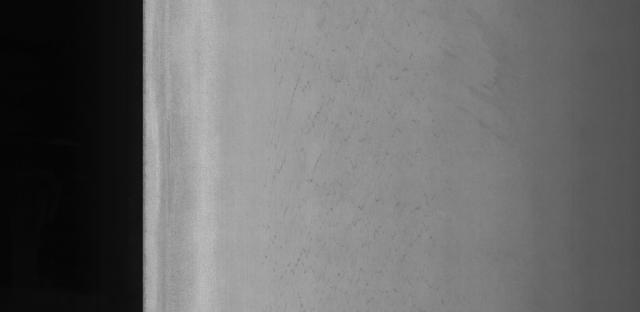silk_spot: (278, 16, 419, 244)
